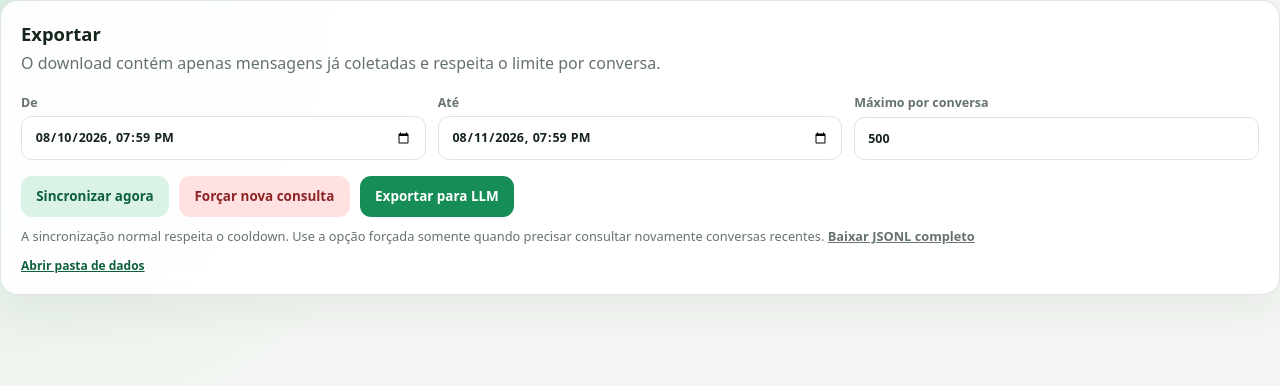
Test: ExportPanel › does not export an invalid date range
The image size is (1280, 386).
Clear the field labelled "De": [223, 138] box [21,116,426,160]
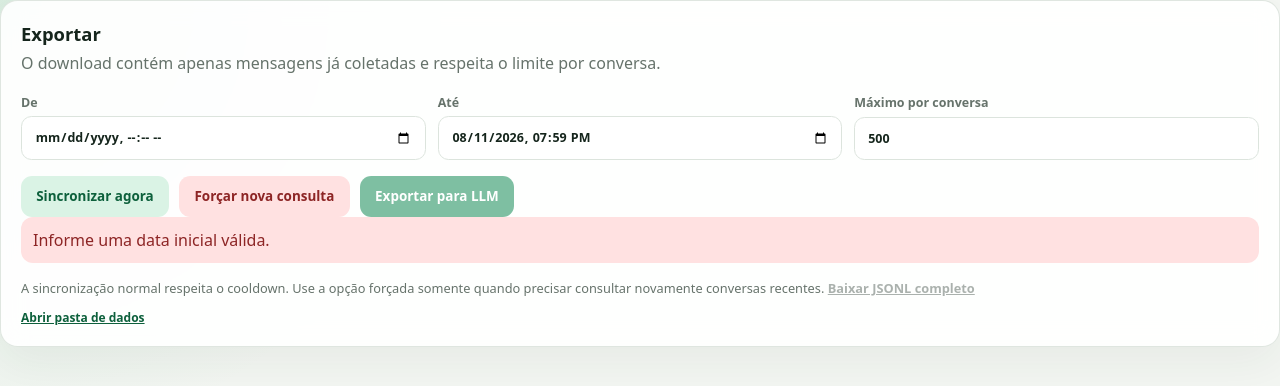
Expected: the message "Informe uma data inicial válida." is shown, [21,217,1259,263]
Expected: the button "Exportar para LLM" is disabled, [360,176,514,217]
Expected: the button "Baixar JSONL completo" is disabled, [828,279,975,297]
